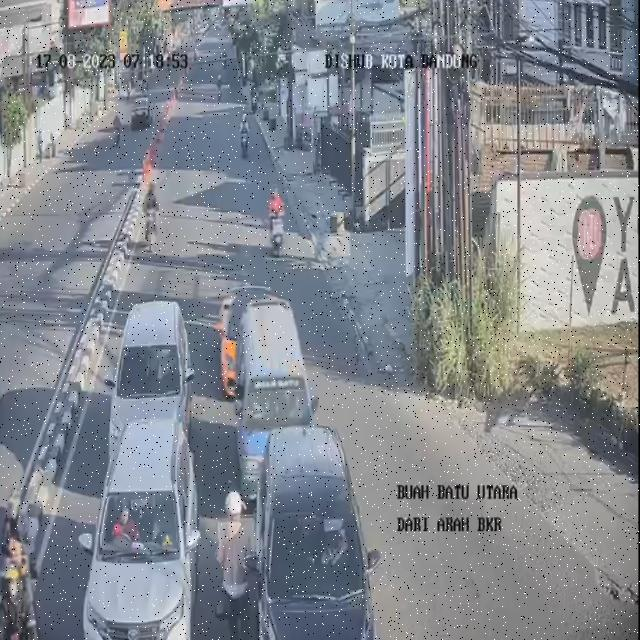cars: (80, 422, 198, 640), (254, 423, 366, 640), (233, 289, 313, 492), (112, 297, 194, 451), (216, 288, 272, 395)
motorcycle: (0, 497, 41, 640), (264, 182, 288, 255), (144, 140, 164, 193), (140, 182, 159, 235), (240, 115, 255, 162)
